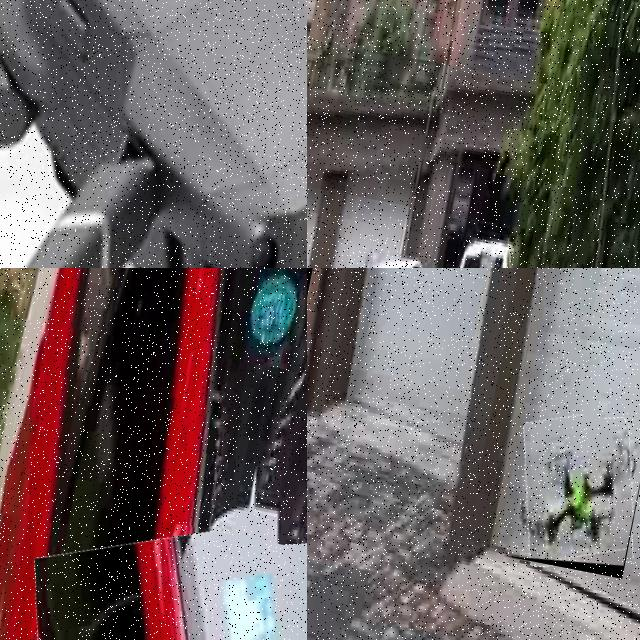0: (20, 500, 307, 640), (506, 405, 640, 578)
drone: (0, 0, 307, 268)
